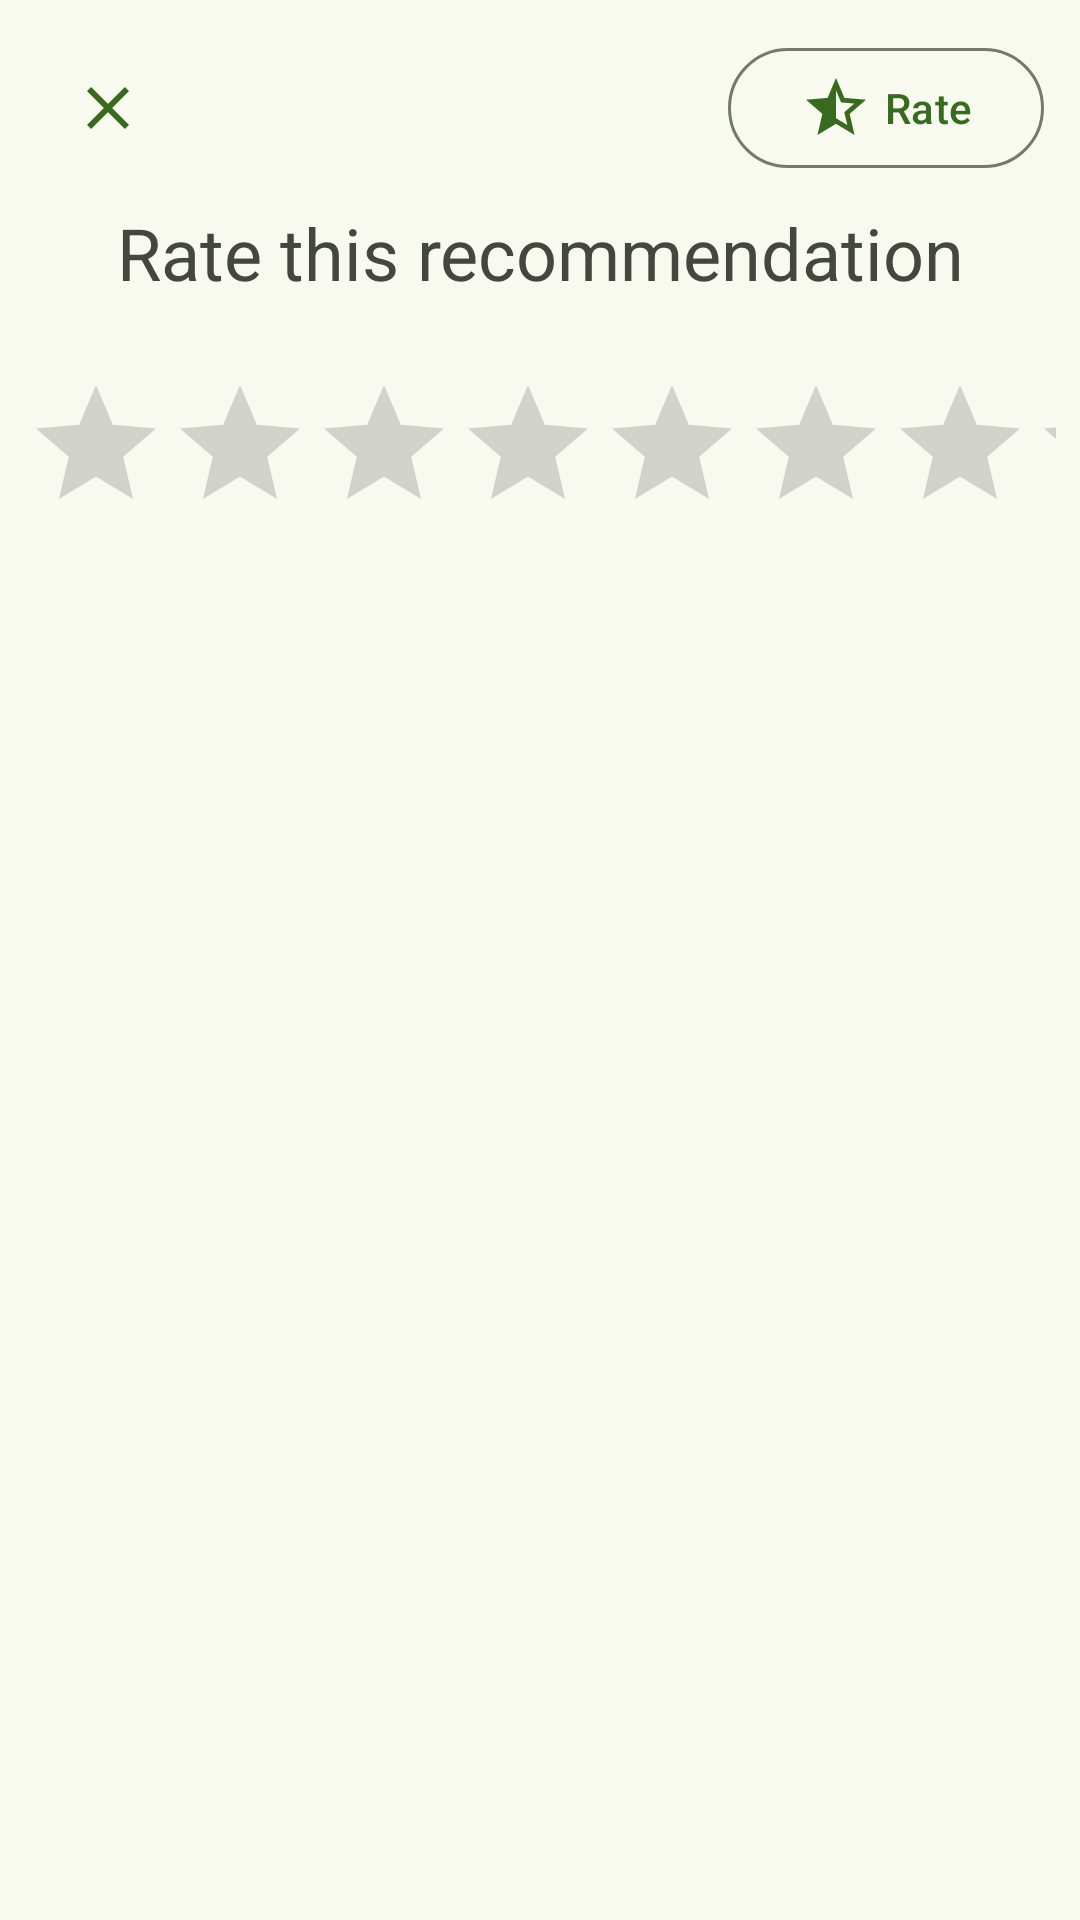

Locate icon controls on the screen. Image size 1080px x 1920px, boxes as bbox=(x1, y1, x2, y2).
clear: bbox=(87, 87, 129, 129)
